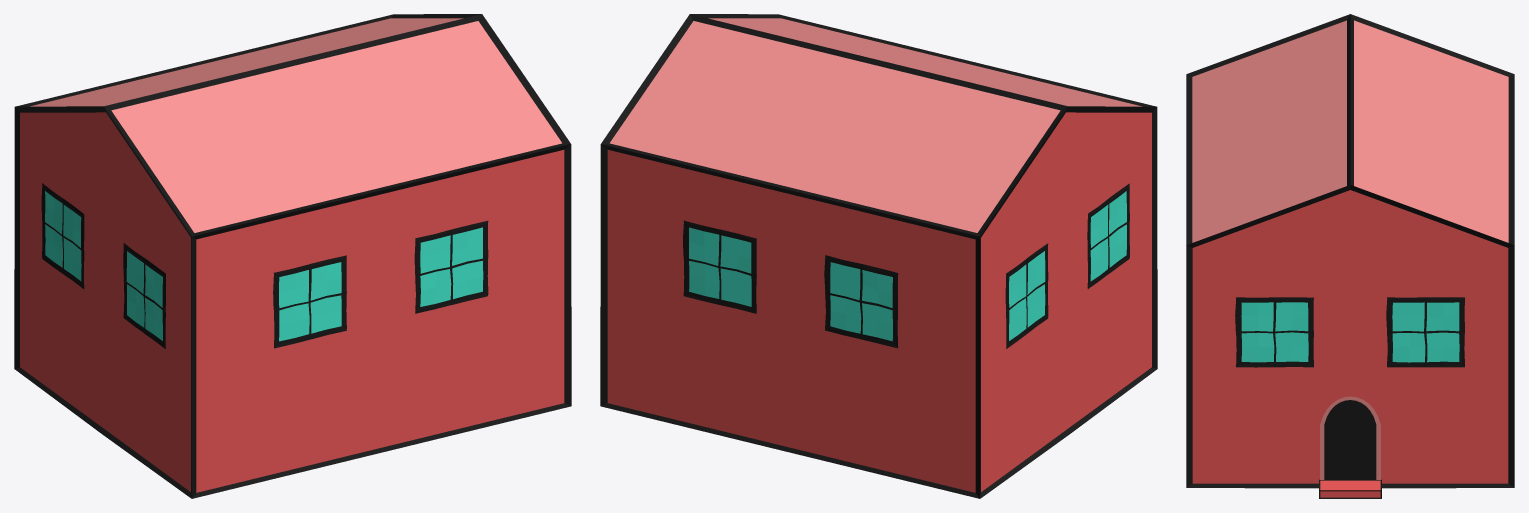
The model's file is house2.glb.
3 renders of one model, left to right at view 1: azimuth 30°, elevation 25°; view 2: azimuth 150°, elevation 25°; view 3: azimuth 270°, elevation 25°, orthographic. The views are drawn at different scales.
Parts seen in each view (by area): view 1: Cube, windows.001, windows.003; view 2: Cube, windows.002, windows.003; view 3: Cube, windows, door, Cube.001.
Boxes of the visible parts, x1,y1,x2,y2 form: Cube: [14, 14, 571, 498]; windows.001: [273, 221, 488, 348]; windows.003: [41, 183, 165, 348]; Cube: [600, 14, 1157, 498]; windows.002: [683, 220, 898, 348]; windows.003: [1005, 183, 1129, 348]; Cube: [1186, 14, 1514, 488]; windows: [1235, 297, 1464, 367]; door: [1320, 396, 1380, 479]; Cube.001: [1319, 479, 1381, 498].
Size of the model in its own units: 5.27 by 4.1 by 4.02.
